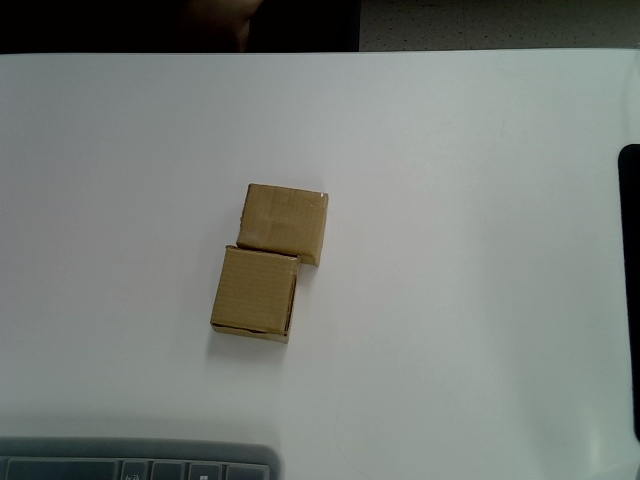normal: (209, 245, 301, 343), (237, 184, 330, 266)
